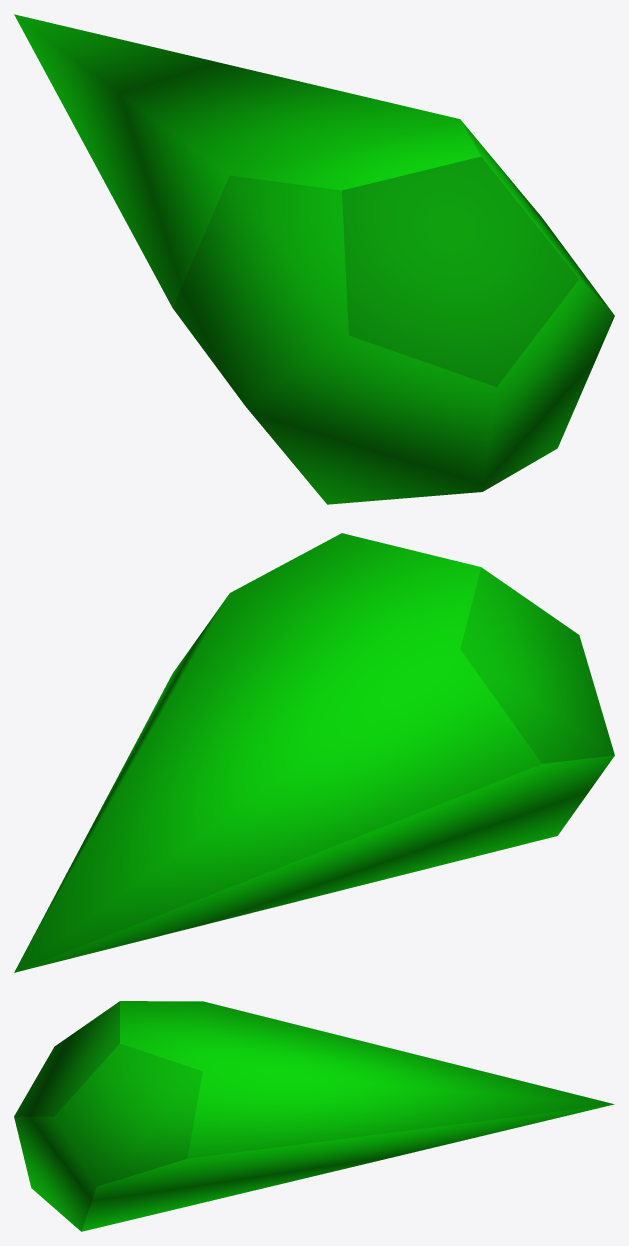
The model's file is anaconda.fbx.
3 renders of one model, top to bottom at view 1: azimuth 30°, elevation 25°; view 2: azimuth 150°, elevation 25°; view 3: azimuth 270°, elevation 25°, orthographic. The views are drawn at different scales.
Parts seen in each view (by area): view 1: anaconda_None; view 2: anaconda_None; view 3: anaconda_None.
Boxes of the visible parts, box(x1,y1,x2,y2) form: anaconda_None: box(14, 14, 614, 504); anaconda_None: box(14, 533, 614, 972); anaconda_None: box(14, 1001, 614, 1231).
Size of the model in its own units: 1.38 by 1 by 3.12.
